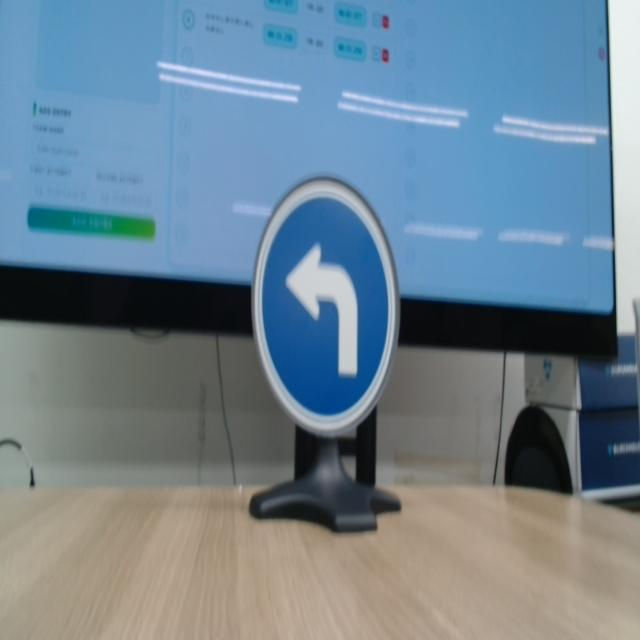left_direction: (246, 179, 409, 444)
